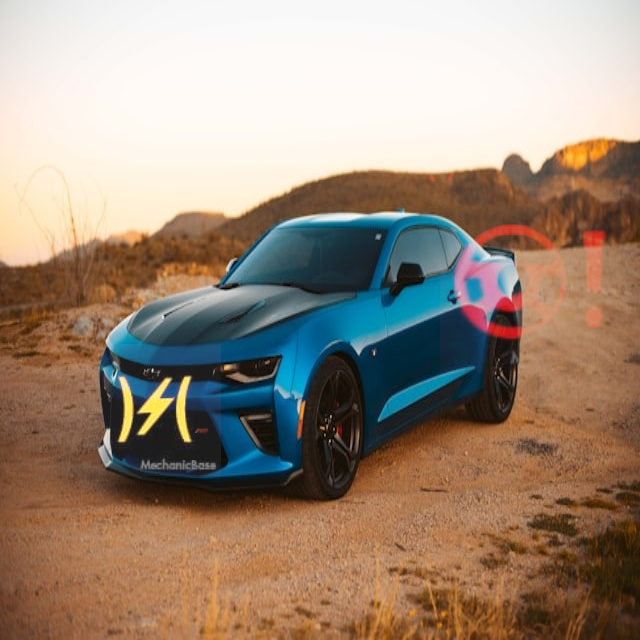symbol: (440, 192, 621, 373), (89, 344, 221, 476), (387, 74, 515, 202)
